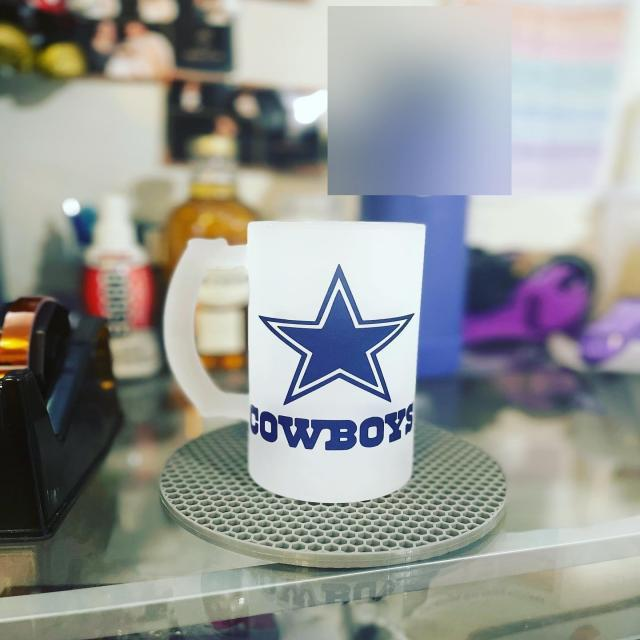glass-mug: (154, 211, 428, 507)
